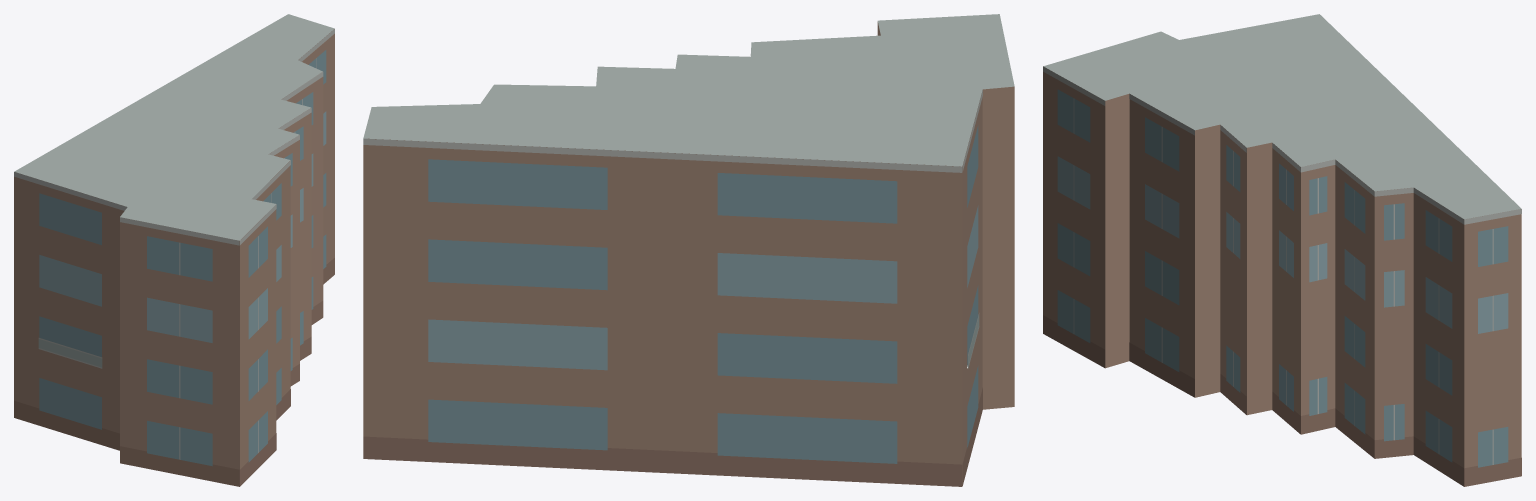
File: survey-upis-32992662.glb
3 views of the same model, side by side, from view 1: azimuth 30°, elevation 25°; view 2: azimuth 150°, elevation 25°; view 3: azimuth 270°, elevation 25° (orthographic). The views are drawn at different scales.
Visible parts, largest first — view 1: survey-upis-32992662.tmp; view 2: survey-upis-32992662.tmp; view 3: survey-upis-32992662.tmp.
Part boxes in pixels (box(x1,y1,x2,y2)): survey-upis-32992662.tmp: box(14, 14, 334, 486); survey-upis-32992662.tmp: box(363, 14, 1014, 486); survey-upis-32992662.tmp: box(1043, 14, 1521, 486).
Size of the model in its own units: 20.1 by 12.2 by 19.8.
